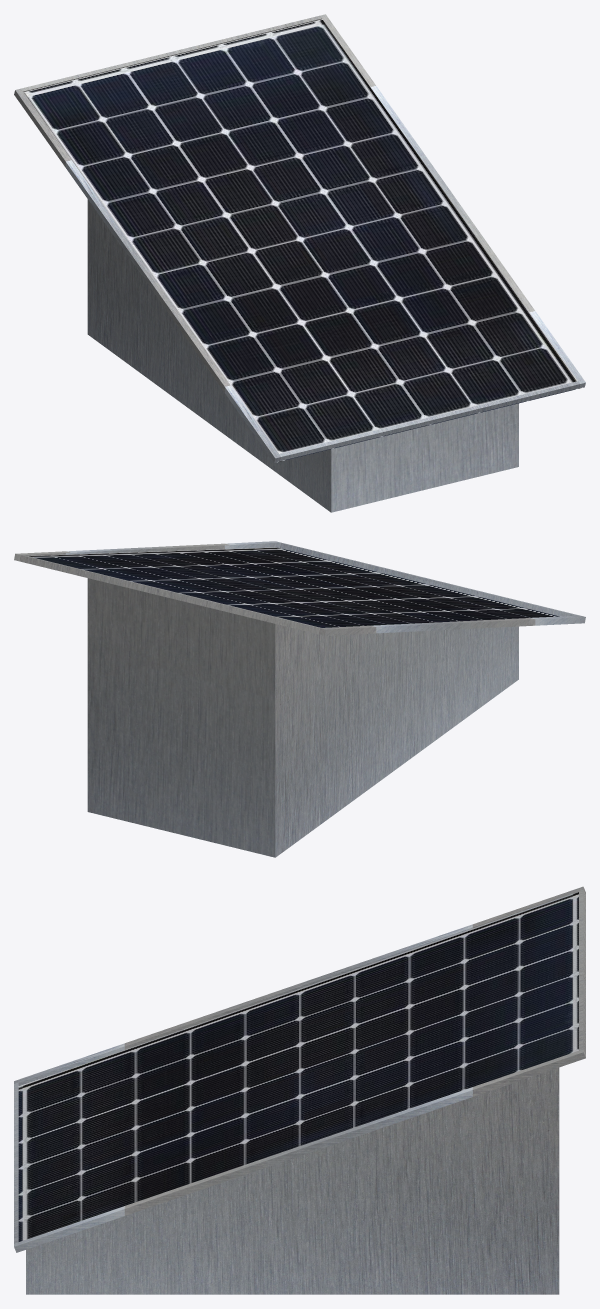
Rendered from PanelSolar.obj.
The picture shows the model from 3 angles, top to bottom: view 1: azimuth 30°, elevation 25°; view 2: azimuth 150°, elevation 25°; view 3: azimuth 270°, elevation 25°; orthographic projection. The views are drawn at different scales.
Visible parts, largest first — view 1: Cube.001, Cube; view 2: Cube, Cube.001; view 3: Cube.001, Cube.
Part boxes in pixels (x1,y1,x2,y2): Cube.001: (14, 14, 585, 462); Cube: (87, 199, 518, 512); Cube: (87, 578, 518, 857); Cube.001: (14, 541, 585, 635); Cube.001: (14, 886, 585, 1252); Cube: (26, 1067, 559, 1294).
Size of the model in its own units: 3.31 by 2.56 by 4.82.
Materials: 2 (2 with a texture image).
